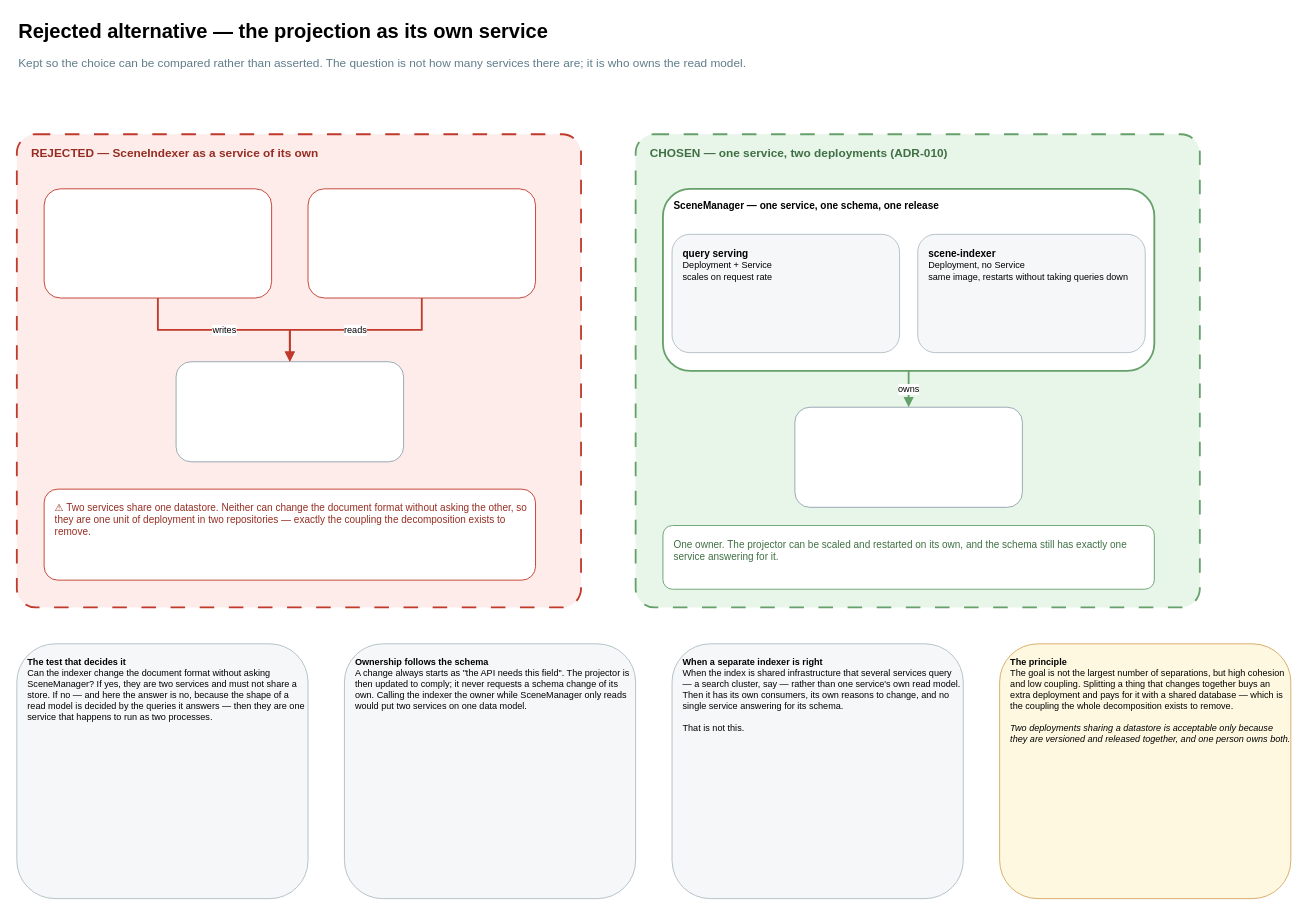
The diagram is 1307 pixels wide and 915 high, and some of its shapes have lost their labels. The shapes that lost their labels are listed below. From the top down, each one's centre as x and y in pixels, then its label:
At point (157, 243): "SceneIndexer consumes scene-content.updated writes only".
At point (421, 243): "SceneManager serves scenes, validates choices reads only".
At point (289, 411): "scene read model MongoDB".
At point (908, 456): "scene read model MongoDB — owned by SceneManager".
